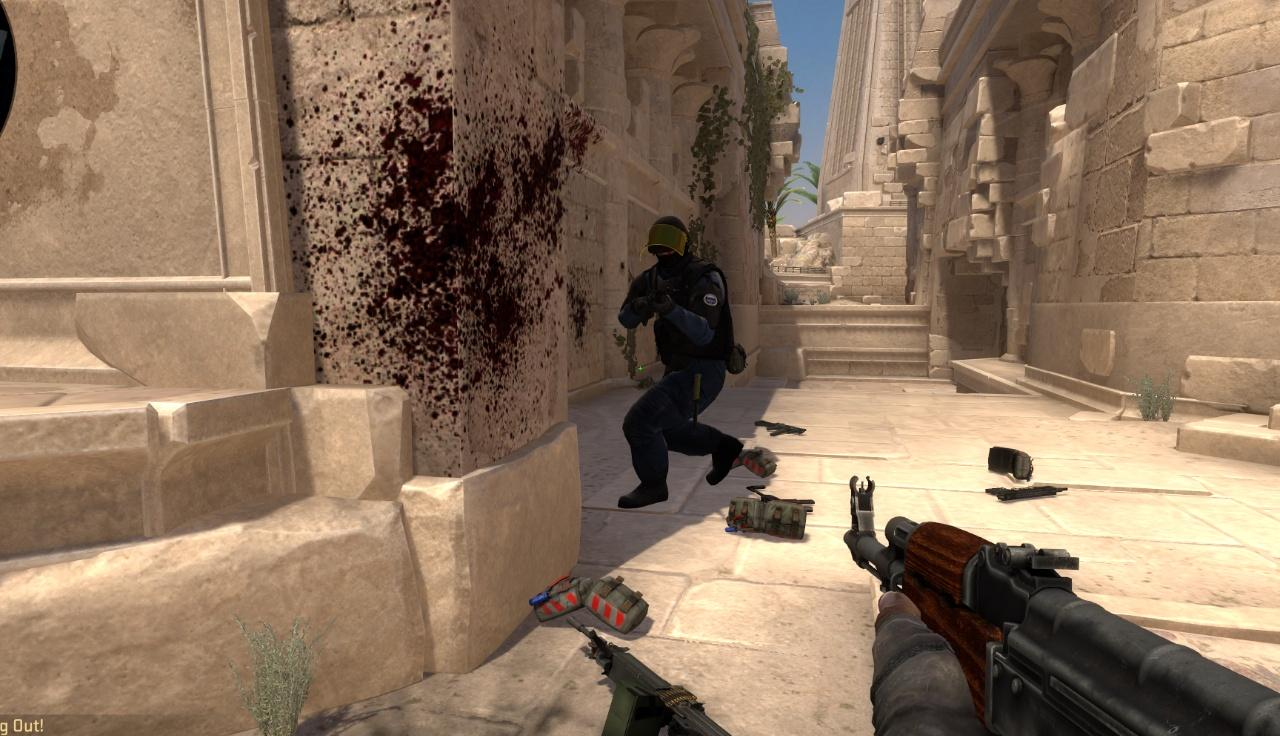ct: (615, 215, 739, 510)
cthead: (646, 216, 691, 273)
rifle: (839, 483, 1280, 732)
